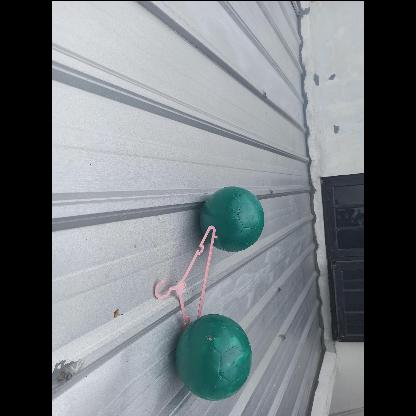green_ball: (169, 312, 256, 398), (200, 184, 266, 250)
